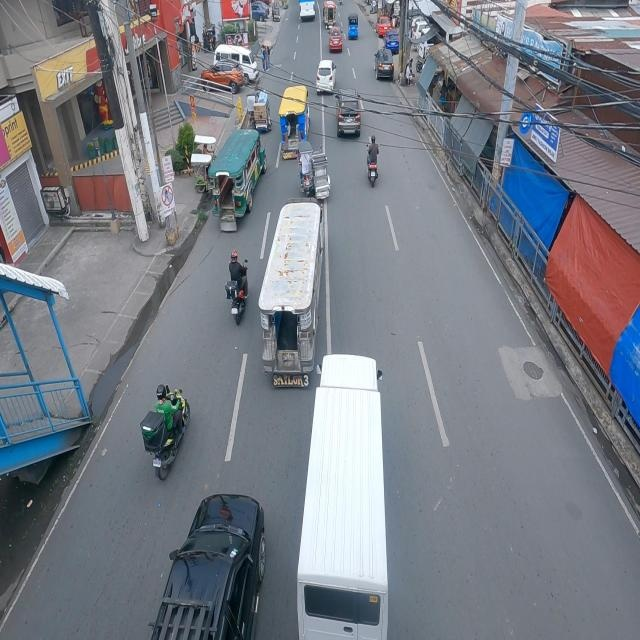Van: (296, 354, 389, 640)
